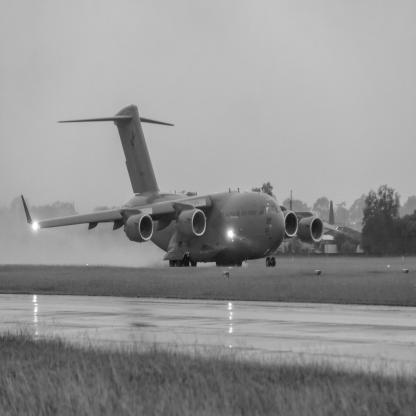C17: (22, 104, 339, 268)
